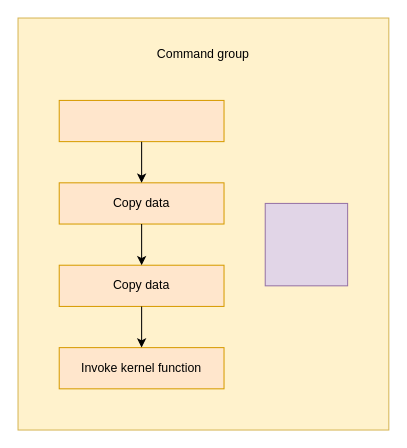
This 407x448 diagram has some shape labels left out. Here are the shapes that lost their labels. From the top down, the centre of each, then its label:
At (x=141, y=120): "Wait for previous command".
At (x=306, y=244): "Target device".
